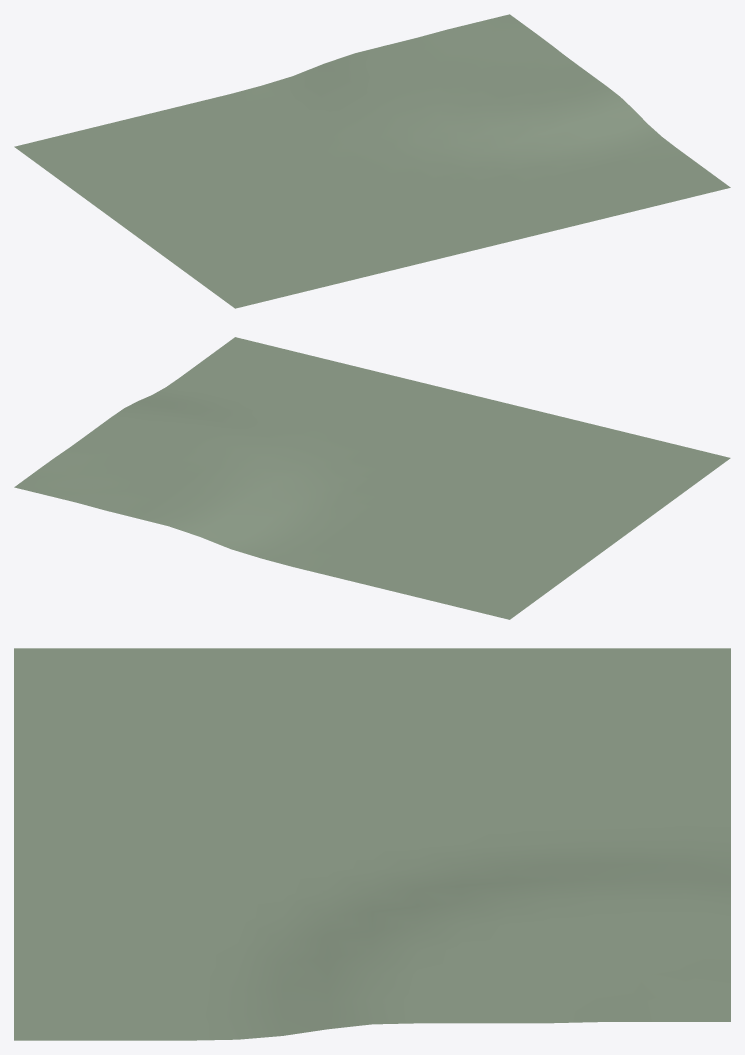
File: chunk_0_3_LOD1.glb
3 views of the same model, one above another, from view 1: azimuth 30°, elevation 25°; view 2: azimuth 150°, elevation 25°; view 3: azimuth 270°, elevation 25° (orthographic). The views are drawn at different scales.
Bounding box in the file's own units: 110 × 2.45 × 85.
